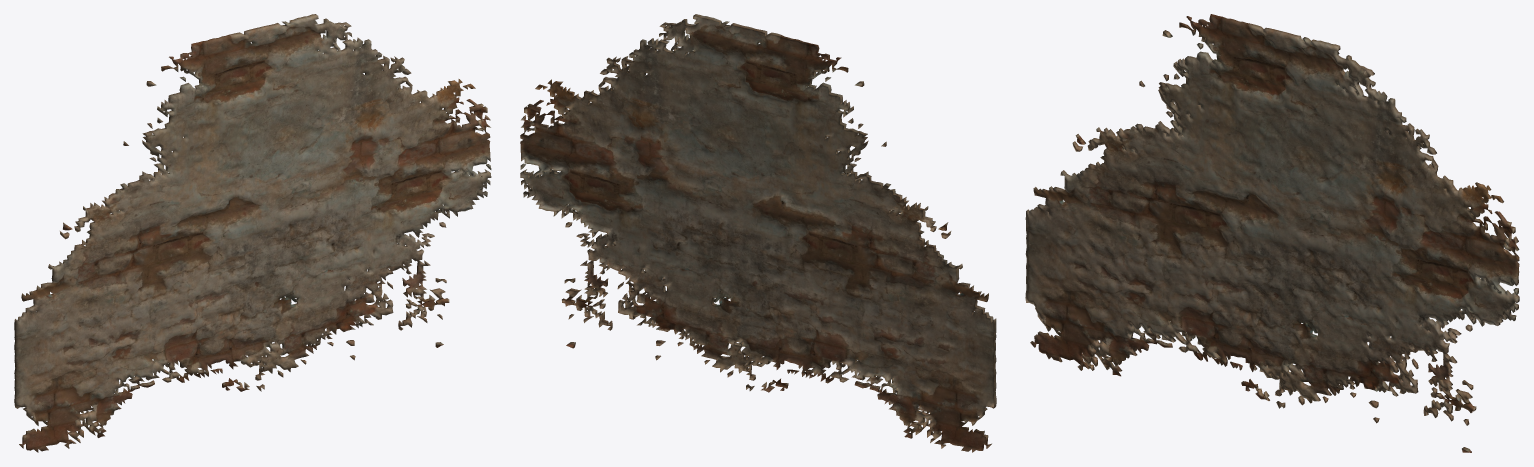
File: broken_lime_plaster.glb
3 views of the same model, side by side, from view 1: azimuth 30°, elevation 25°; view 2: azimuth 150°, elevation 25°; view 3: azimuth 330°, elevation 25° (orthographic). The views are drawn at different scales.
Size of the model in its own units: 3.8 by 2.86 by 0.037.
1 material, 1 textured.
